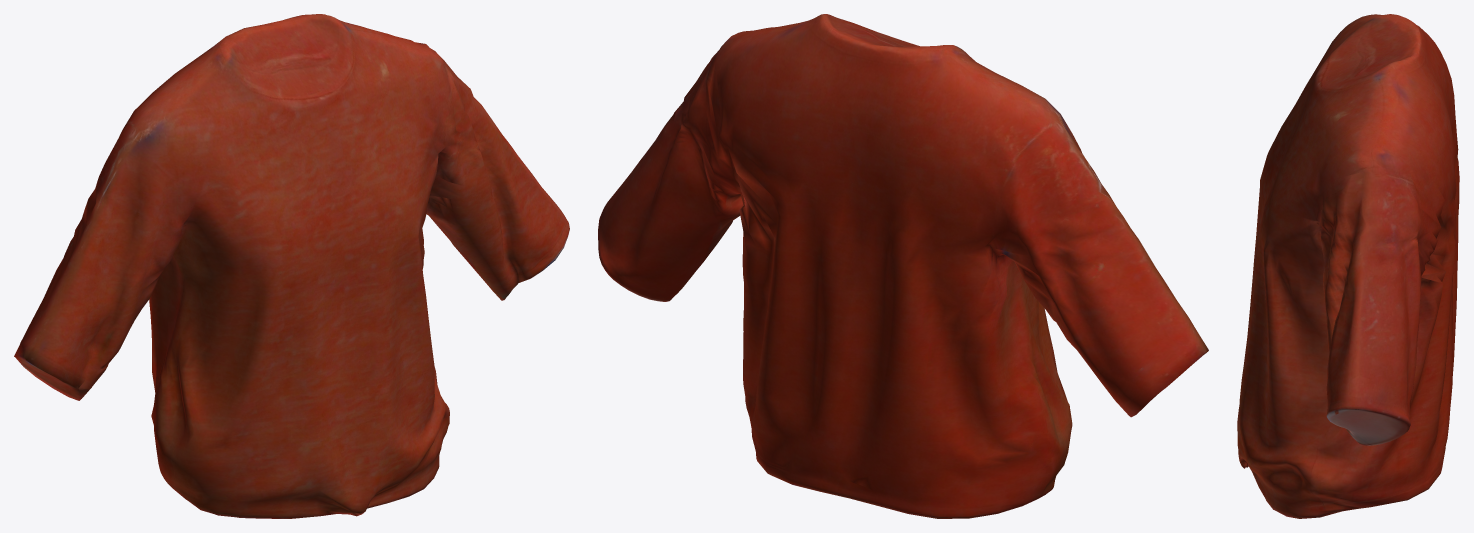
The picture shows the model from 3 angles, left to right: view 1: azimuth 30°, elevation 25°; view 2: azimuth 150°, elevation 25°; view 3: azimuth 270°, elevation 25°; orthographic projection. The views are drawn at different scales.
Visible parts, largest first — view 1: file1; view 2: file1; view 3: file1.
Boxes of the visible parts, x1,y1,x2,y2 form: file1: (14,14,569,518); file1: (598,14,1208,518); file1: (1237,14,1459,518).
Size of the model in its own units: 2 by 1.54 by 0.7151.
1 material, 1 textured.
